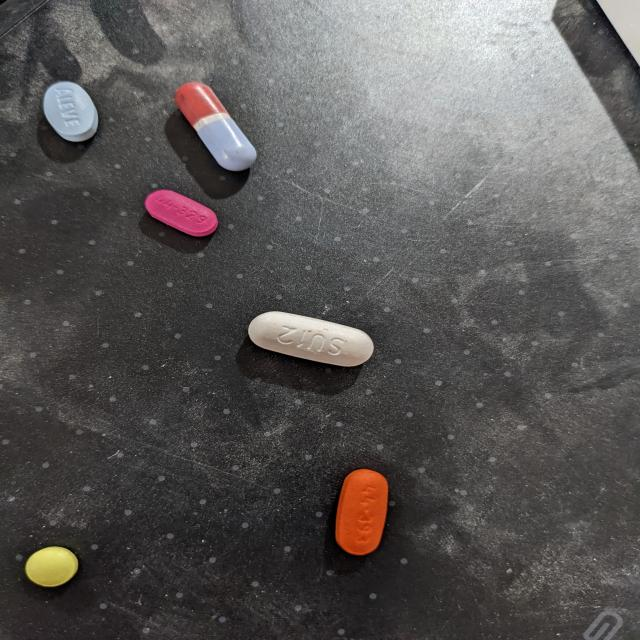non-organic waste: (173, 81, 259, 172), (247, 309, 375, 368), (334, 467, 390, 556), (144, 188, 220, 238), (42, 81, 101, 143), (24, 545, 80, 588)
